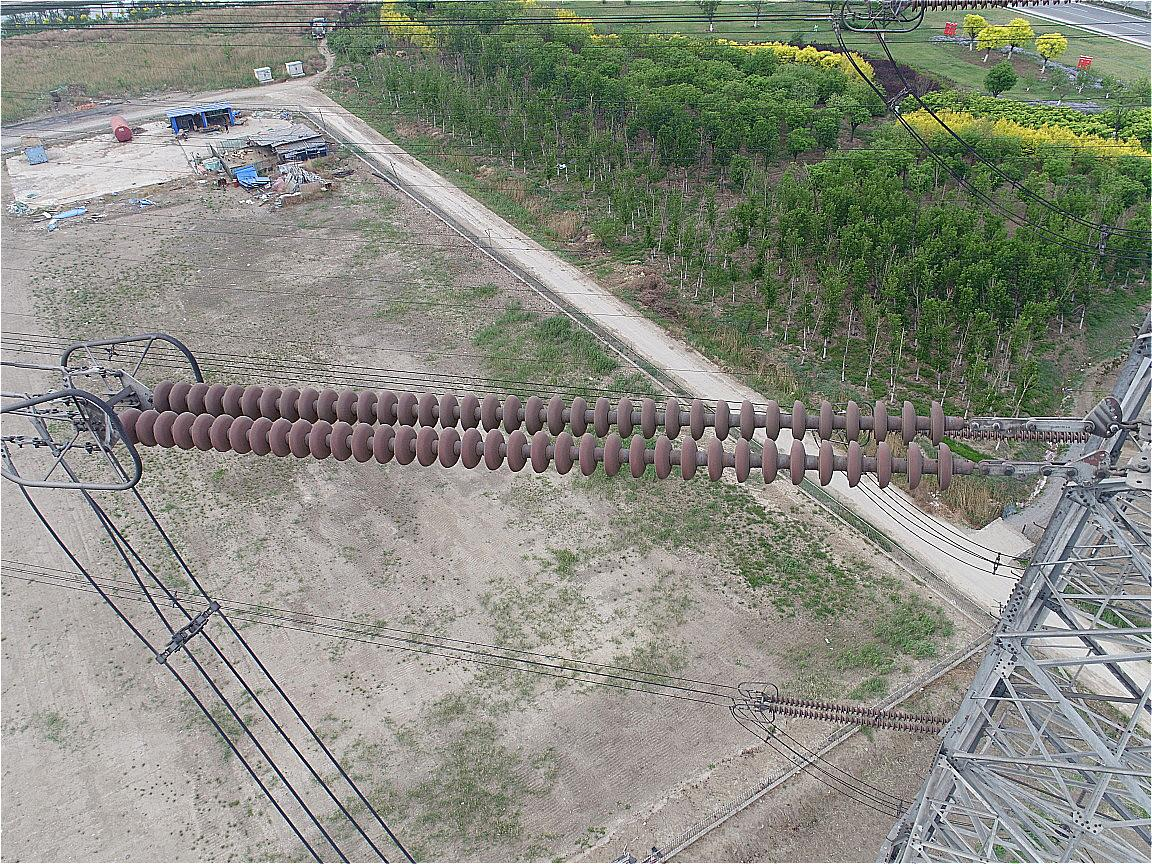insultor1: (94, 363, 992, 497)
